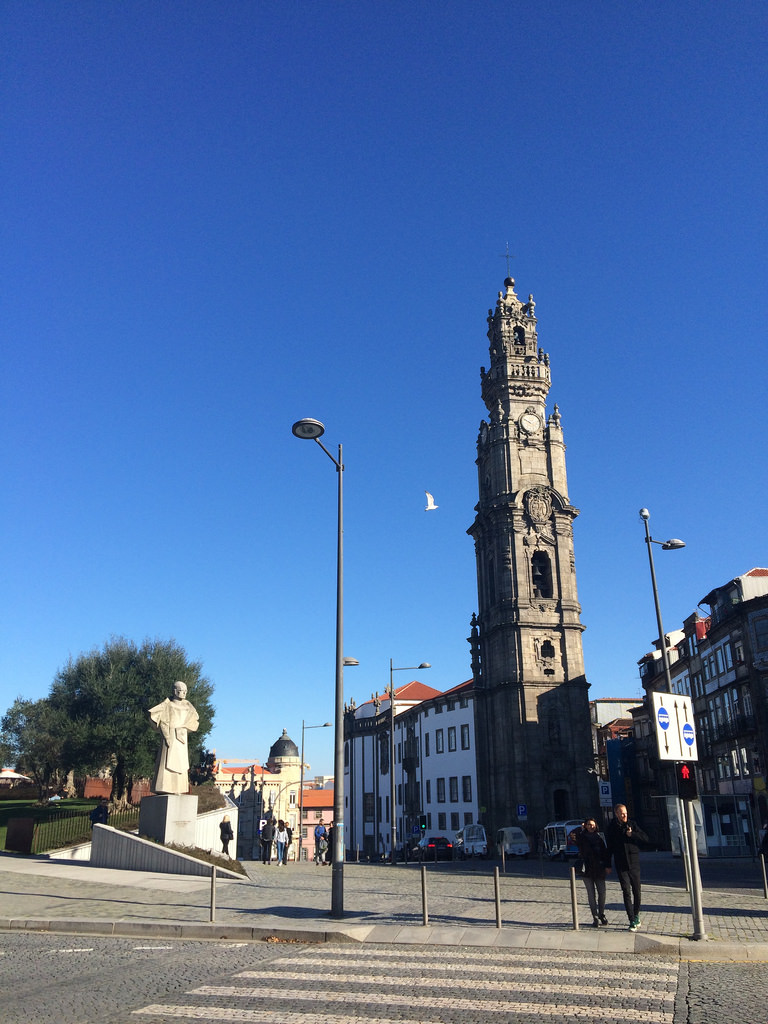clerigos: (467, 238, 601, 817)
